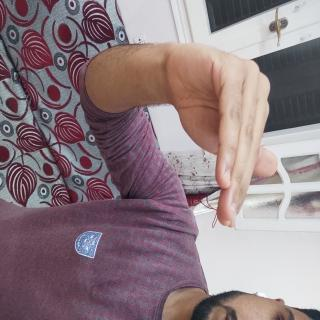KHAA: (27, 43, 178, 254)
